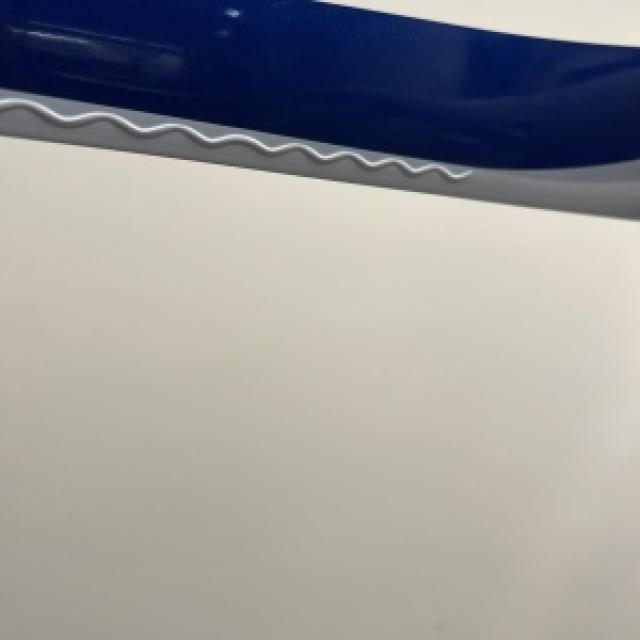healthy: (0, 0, 638, 218)
